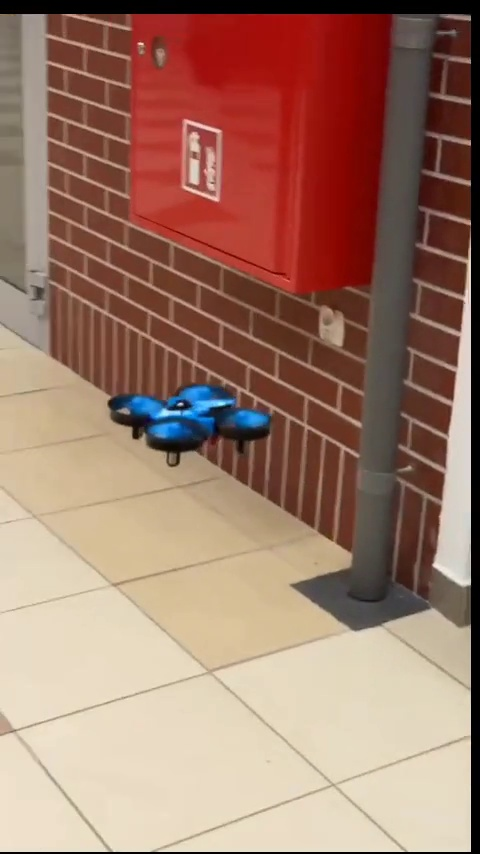drone: (108, 380, 271, 465)
